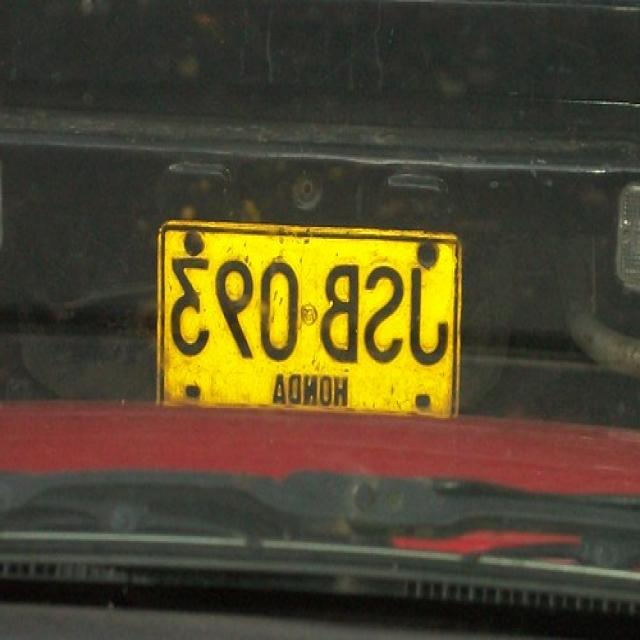placas: (165, 244, 453, 378)
